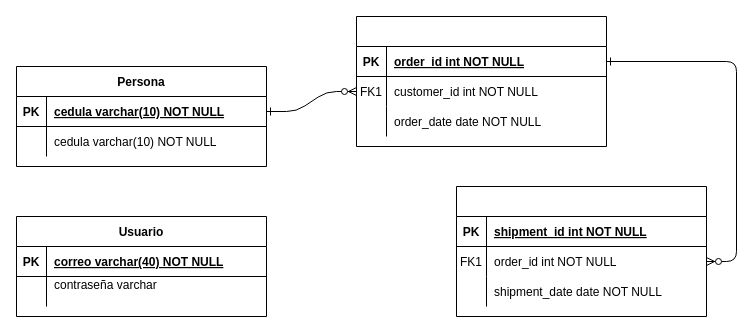
Some shapes in this 753 by 333 pixel diagram are drawn without their labels. The shapes that lost their labels are listed below. From the top down, each one's box as (x1, y1, x2, y2) in pixels, then its label:
(356, 16, 606, 146): Orders
(456, 186, 706, 316): Shipments
